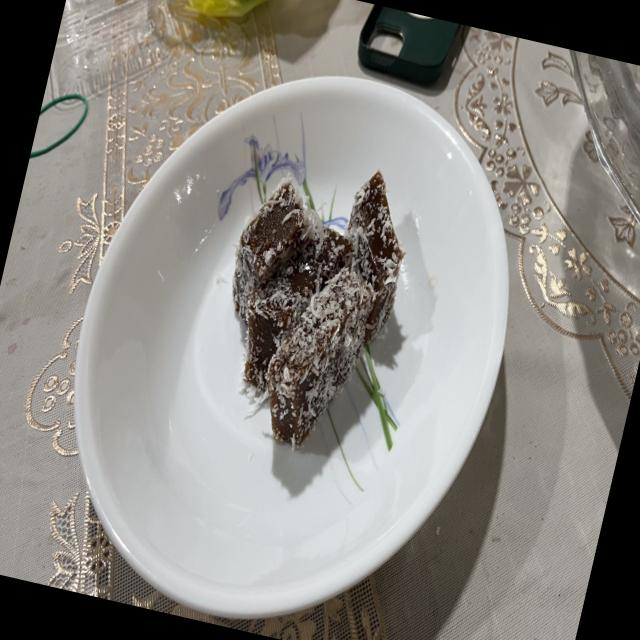kaswi: (244, 208, 353, 392), (265, 268, 372, 447), (232, 176, 312, 316), (346, 171, 403, 344)
